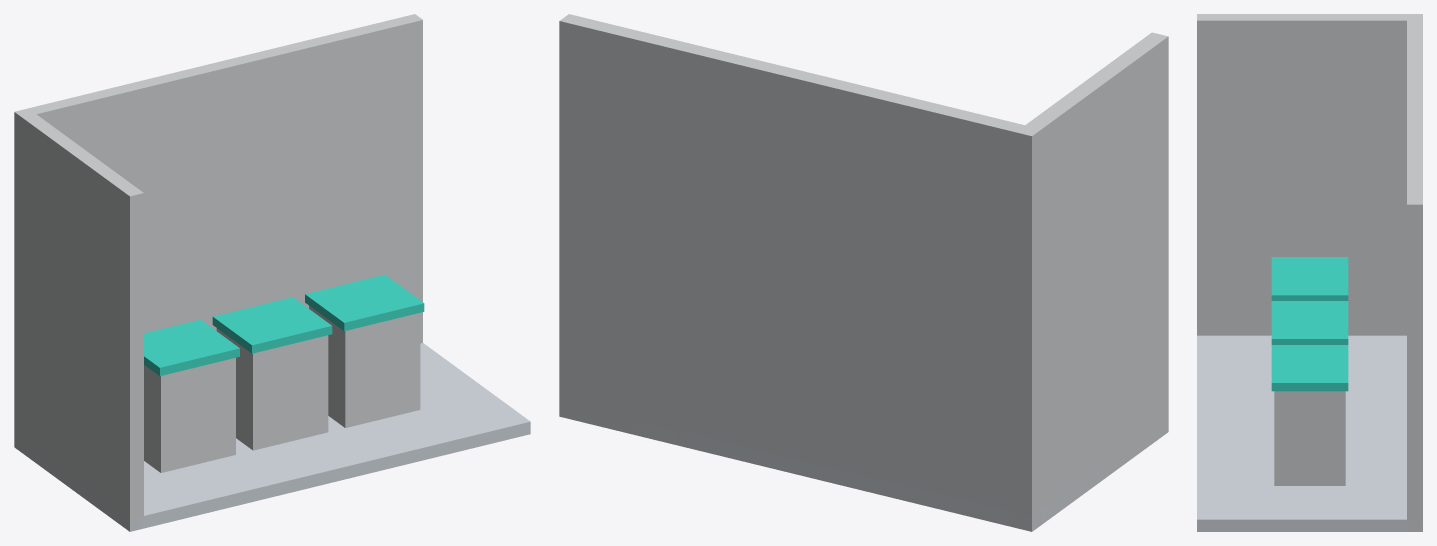
The picture shows the model from 3 angles, left to right: view 1: azimuth 30°, elevation 25°; view 2: azimuth 150°, elevation 25°; view 3: azimuth 270°, elevation 25°; orthographic projection. The views are drawn at different scales.
Parts seen in each view (by area): view 1: Exhibition Booth Concept; view 2: Exhibition Booth Concept; view 3: Exhibition Booth Concept.
Part boxes in pixels (x1=…): Exhibition Booth Concept: x1=14, y1=14, x2=530, y2=531; Exhibition Booth Concept: x1=559, y1=14, x2=1168, y2=531; Exhibition Booth Concept: x1=1197, y1=14, x2=1422, y2=531.
Bounding box in the file's own units: 4 × 3.2 × 2.
